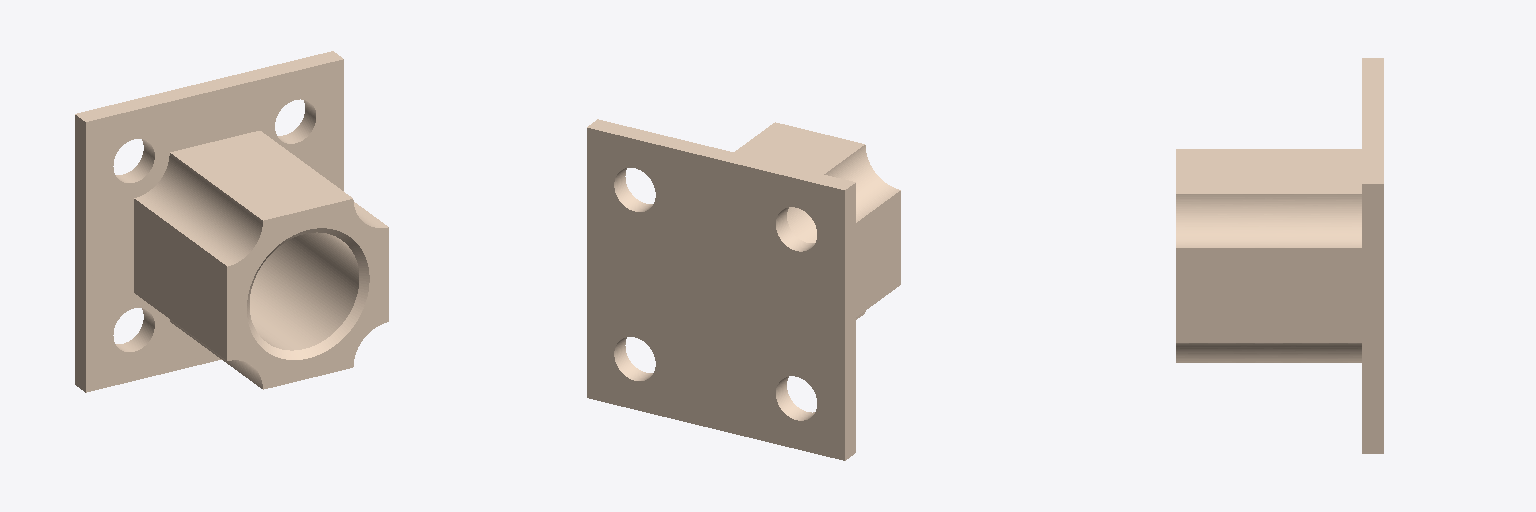
File: industreal_tray_insert_round_peg_16mm.obj
3 renders of one model, left to right at view 1: azimuth 30°, elevation 25°; view 2: azimuth 150°, elevation 25°; view 3: azimuth 270°, elevation 25°, orthographic.
Parts seen in each view (by area): view 1: industreal_tray_insert_round_peg_16mm; view 2: industreal_tray_insert_round_peg_16mm; view 3: industreal_tray_insert_round_peg_16mm.
Part boxes in pixels (bbox=[...]): industreal_tray_insert_round_peg_16mm: bbox=[75, 51, 388, 392]; industreal_tray_insert_round_peg_16mm: bbox=[587, 119, 900, 460]; industreal_tray_insert_round_peg_16mm: bbox=[1176, 58, 1383, 453].
Size of the model in its own units: 0.04 by 0.04 by 0.028.